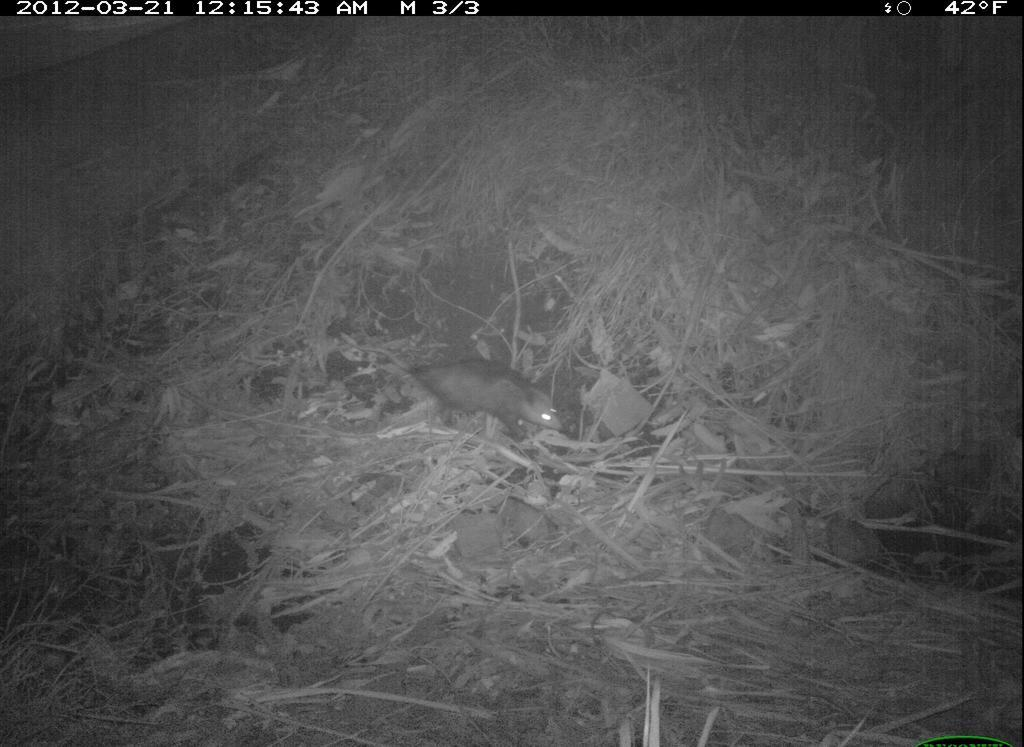opossum: (397, 328, 574, 451)
